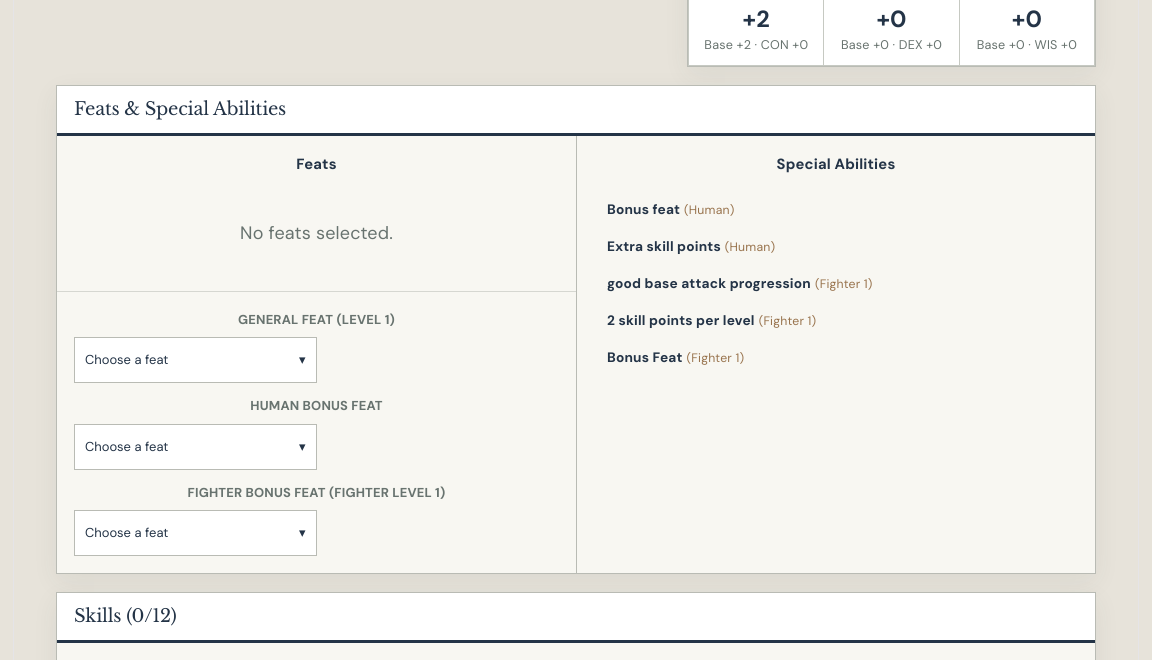
Test case: armor and shield proficiency › lets a character choose and display a weapon for Weapon Focus
(page scrolled)
Click the button named "General feat (level 1)": [195, 360] box [74, 337, 316, 384]
(page scrolled)
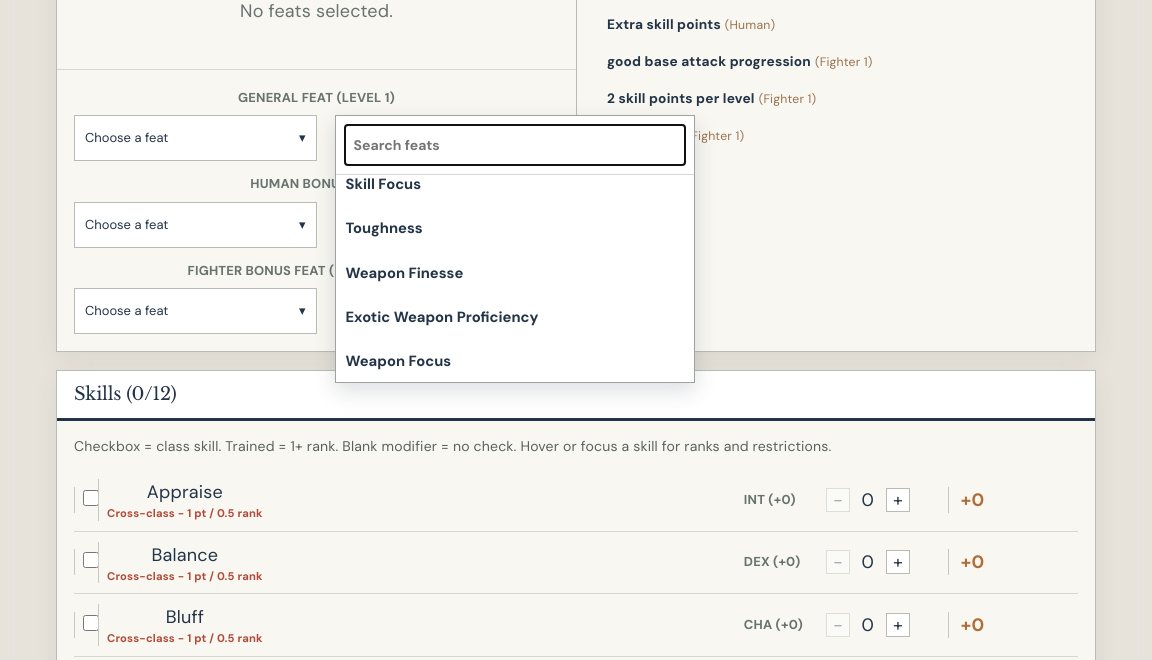
Click the option "Weapon Focus": [398, 361] box [336, 339, 694, 383]
(page scrolled)
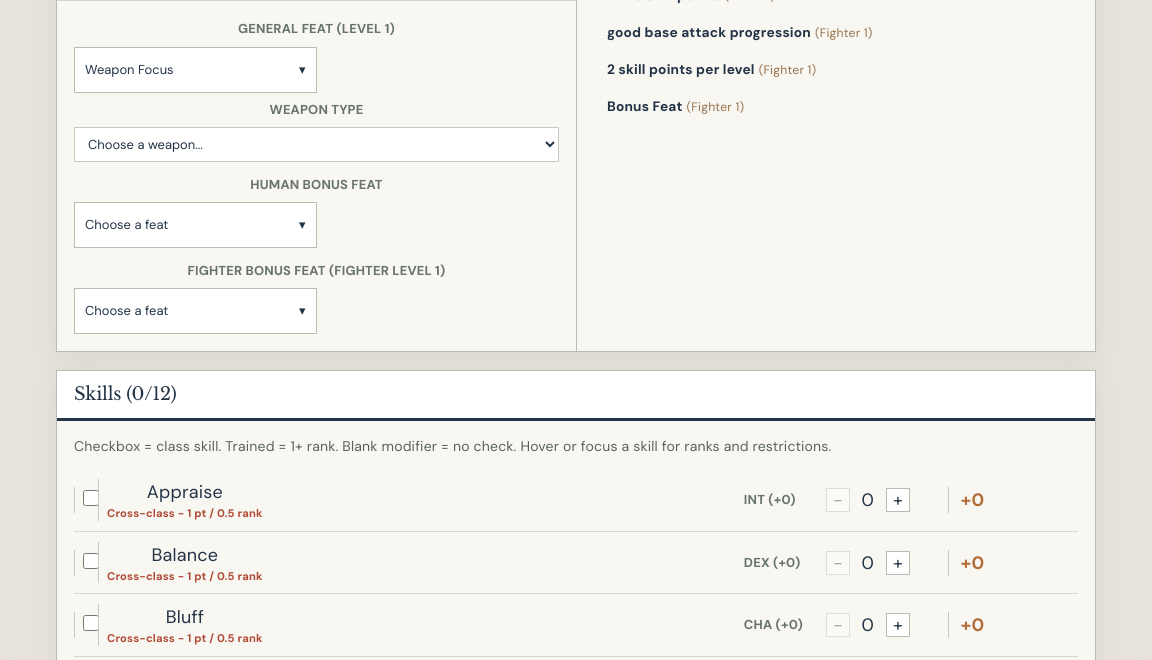
Select "Longsword" in the dropdown named "General feat (level 1) weapon": [316, 144] box [74, 127, 559, 162]
(page scrolled)
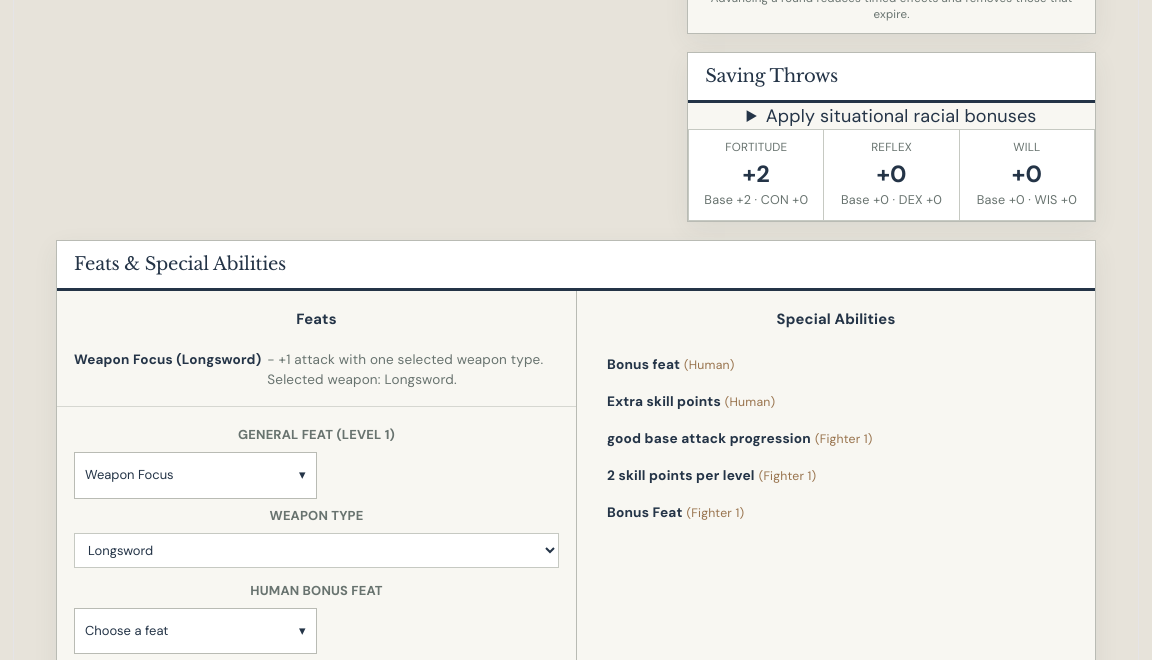
Now the text "Weapon Focus (Longsword)" is shown, box [74, 347, 261, 373]
